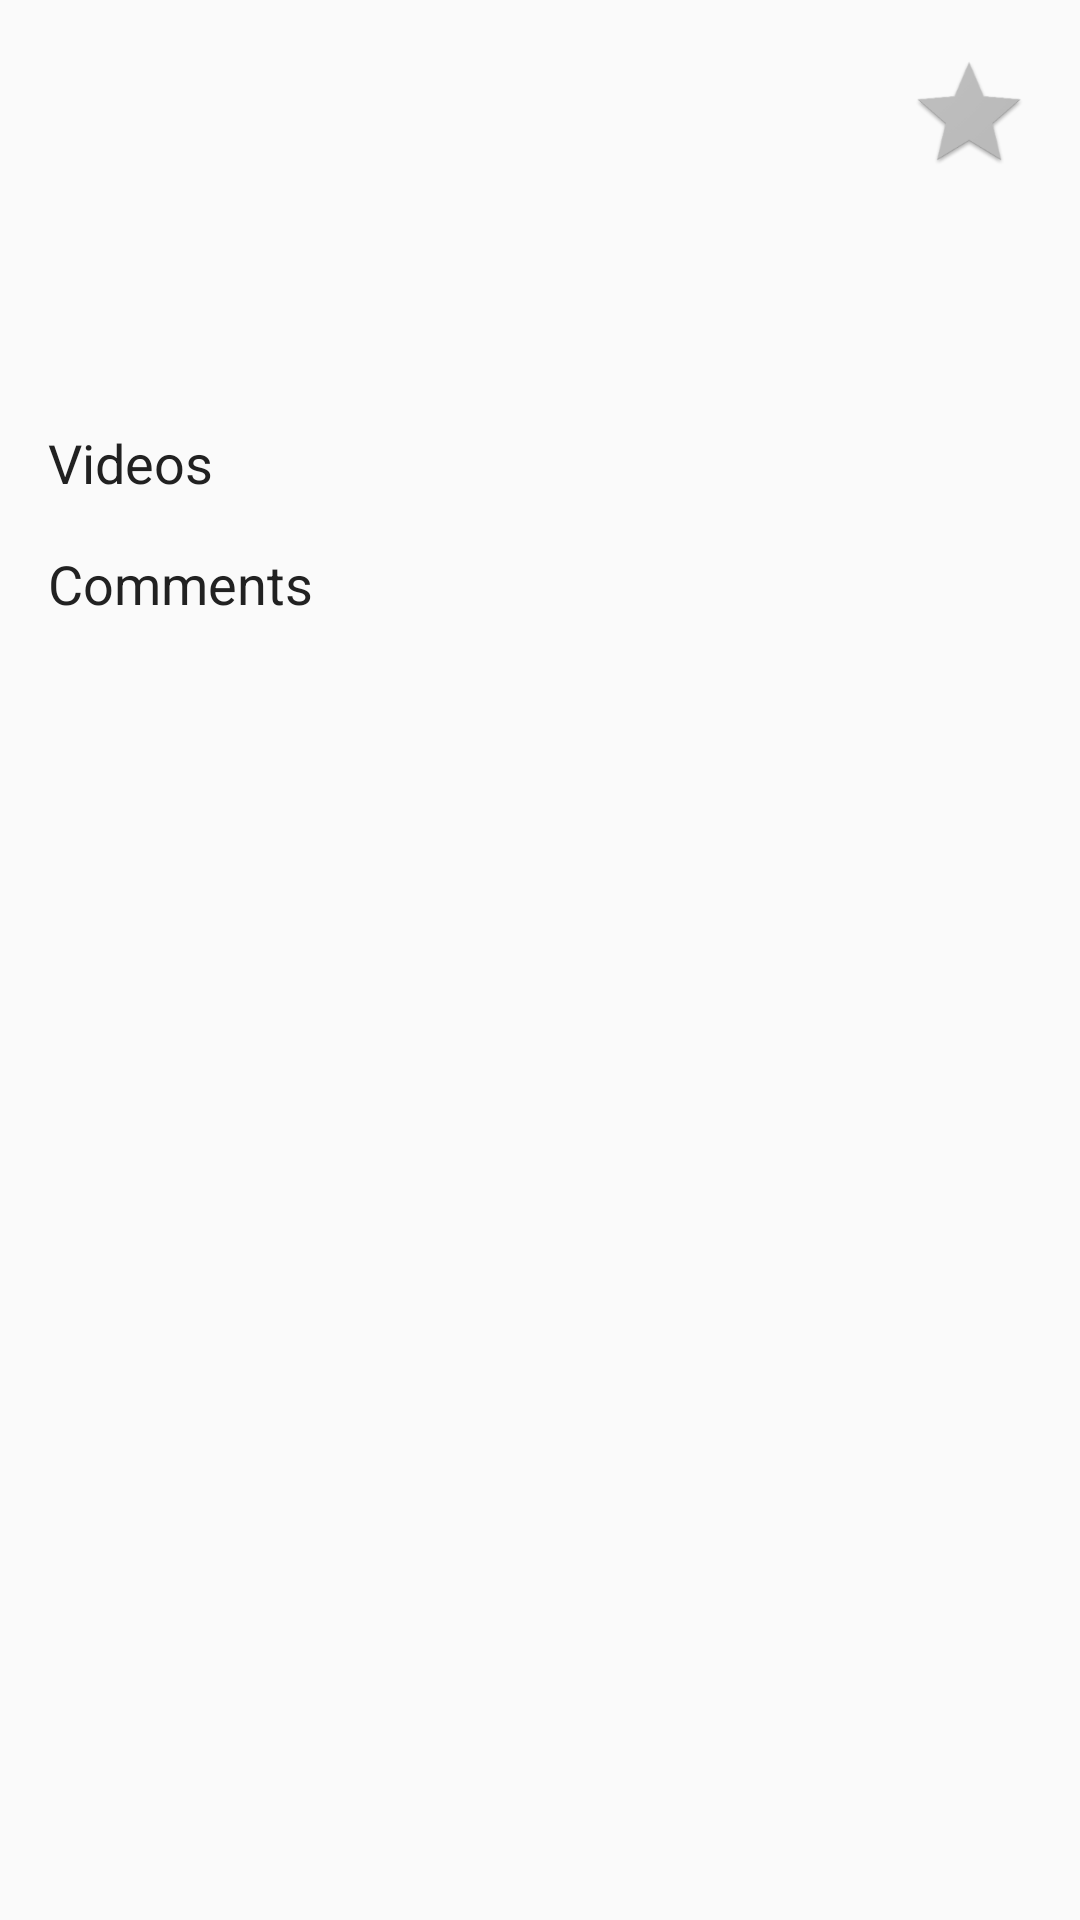

Screen size 1080x1920. Icon name, then its center in pixels as point (x, y):
not favorite: point (969, 112)
